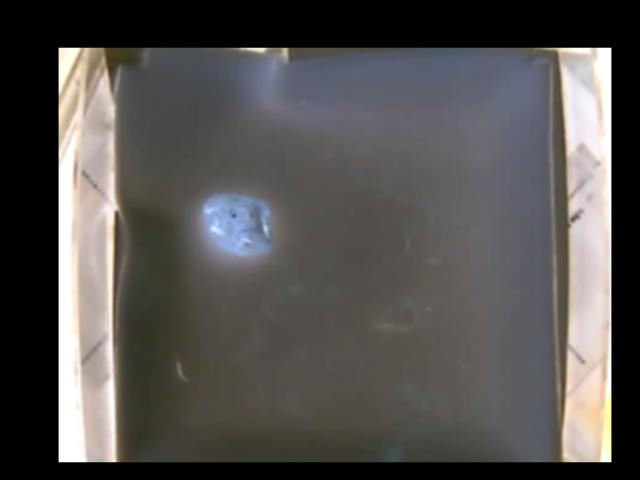Pebble: (203, 194, 270, 256)
